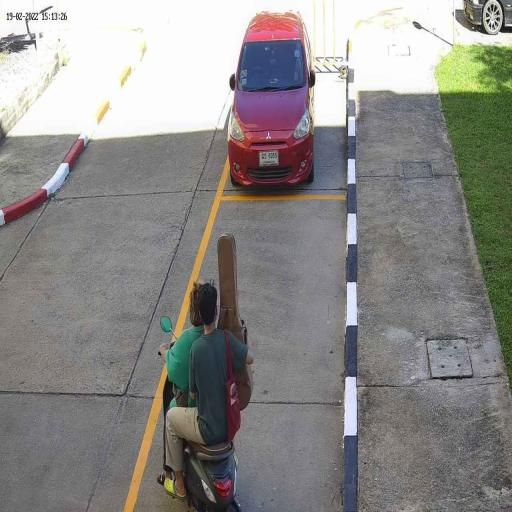car: (227, 9, 316, 190)
motorcycle: (181, 436, 242, 512)
